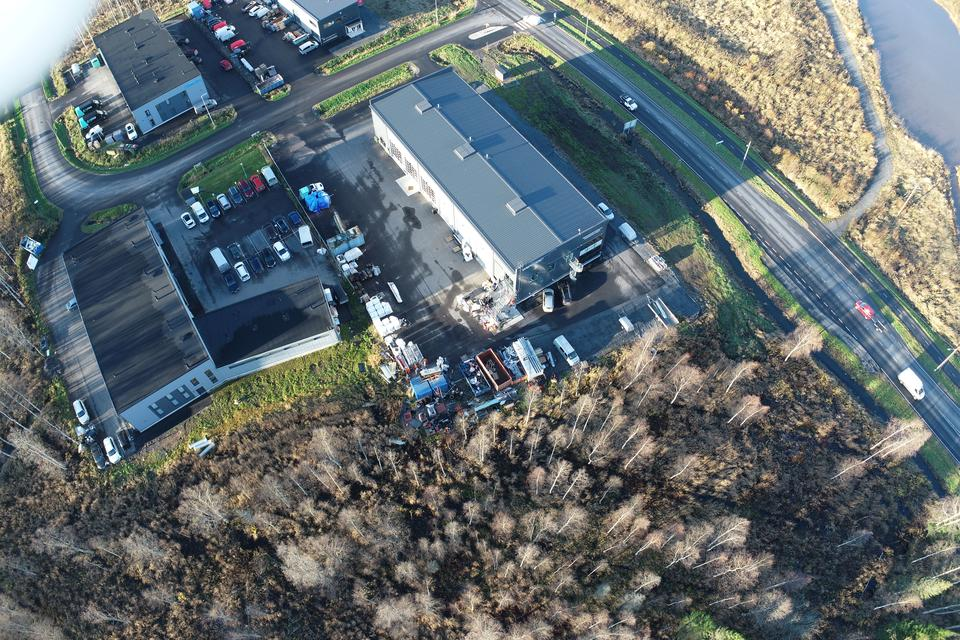intersection: (714, 196, 900, 271), (445, 0, 608, 58)
